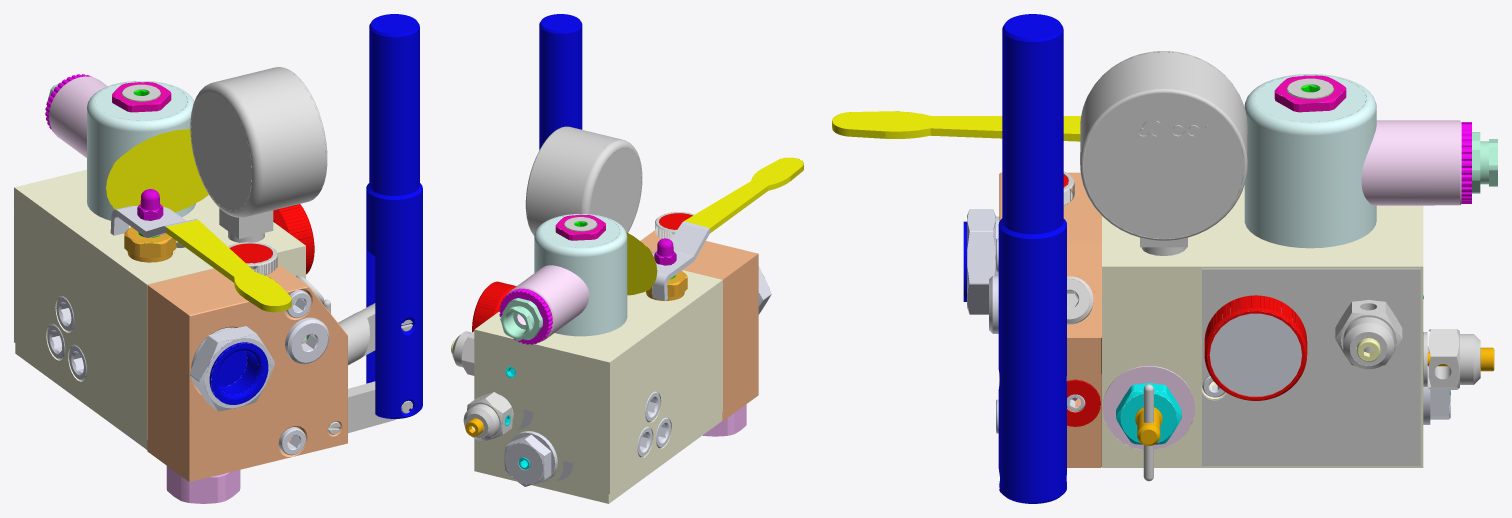
The picture shows the model from 3 angles, left to right: view 1: azimuth 30°, elevation 25°; view 2: azimuth 150°, elevation 25°; view 3: azimuth 270°, elevation 25°; orthographic projection. The views are drawn at different scales.
Parts seen in each view (by area): view 1: KV1P; view 2: KV1P; view 3: KV1P.
Part boxes in pixels (bbox=[...]): KV1P: bbox=[14, 14, 422, 503]; KV1P: bbox=[451, 14, 803, 503]; KV1P: bbox=[832, 14, 1497, 503].
Size of the model in its own units: 0.1005 by 0.1666 by 0.1947.
